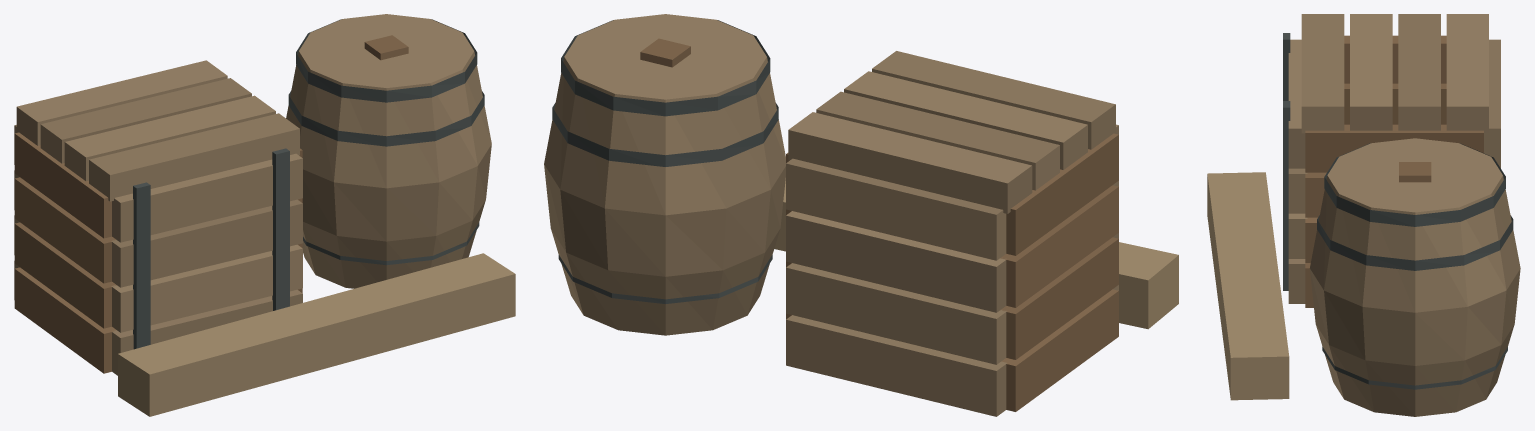
The model's file is washed-cargo.glb.
3 views of the same model, side by side, from view 1: azimuth 30°, elevation 25°; view 2: azimuth 150°, elevation 25°; view 3: azimuth 270°, elevation 25° (orthographic). The views are drawn at different scales.
Visible parts, largest first — view 1: washed-cargo; view 2: washed-cargo; view 3: washed-cargo.
Boxes of the visible parts, x1,y1,x2,y2 form: washed-cargo: (14,14,515,416); washed-cargo: (544,14,1178,416); washed-cargo: (1207,14,1520,416).
Bounding box in the file's own units: 1.72 × 0.805 × 1.07.
